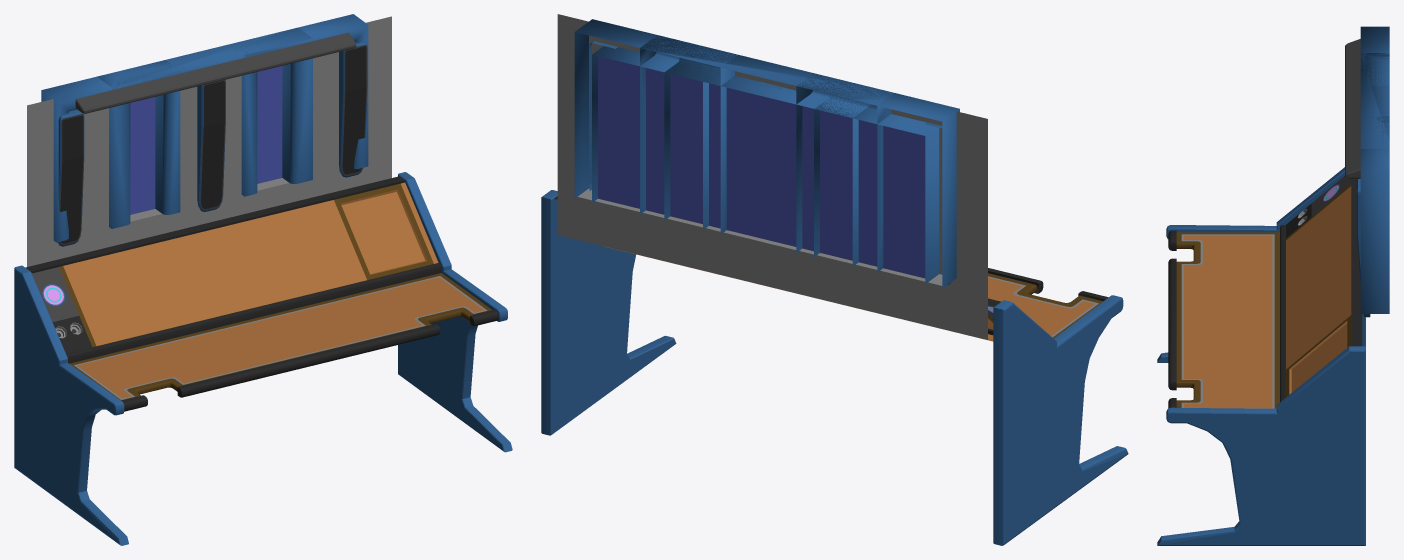
Rendered from Airport_Consolle.fbx.
The picture shows the model from 3 angles, left to right: view 1: azimuth 30°, elevation 25°; view 2: azimuth 150°, elevation 25°; view 3: azimuth 270°, elevation 25°; orthographic projection. The views are drawn at different scales.
Parts seen in each view (by area): view 1: Consolle, Reception-1, Reception-2; view 2: Reception-1, Reception-2, Consolle; view 3: Consolle, Reception-2, Reception-1.
Boxes of the visible parts, box(x1,y1,x2,y2) form: Consolle: box(14, 172, 512, 545); Reception-1: box(27, 16, 391, 266); Reception-2: box(27, 14, 391, 266); Reception-1: box(557, 14, 987, 339); Reception-2: box(557, 15, 987, 339); Consolle: box(541, 190, 1128, 545); Consolle: box(1157, 167, 1365, 545); Reception-2: box(1345, 26, 1389, 313); Reception-1: box(1345, 53, 1389, 317).
Size of the model in its own units: 6.22 by 5.44 by 3.26.
